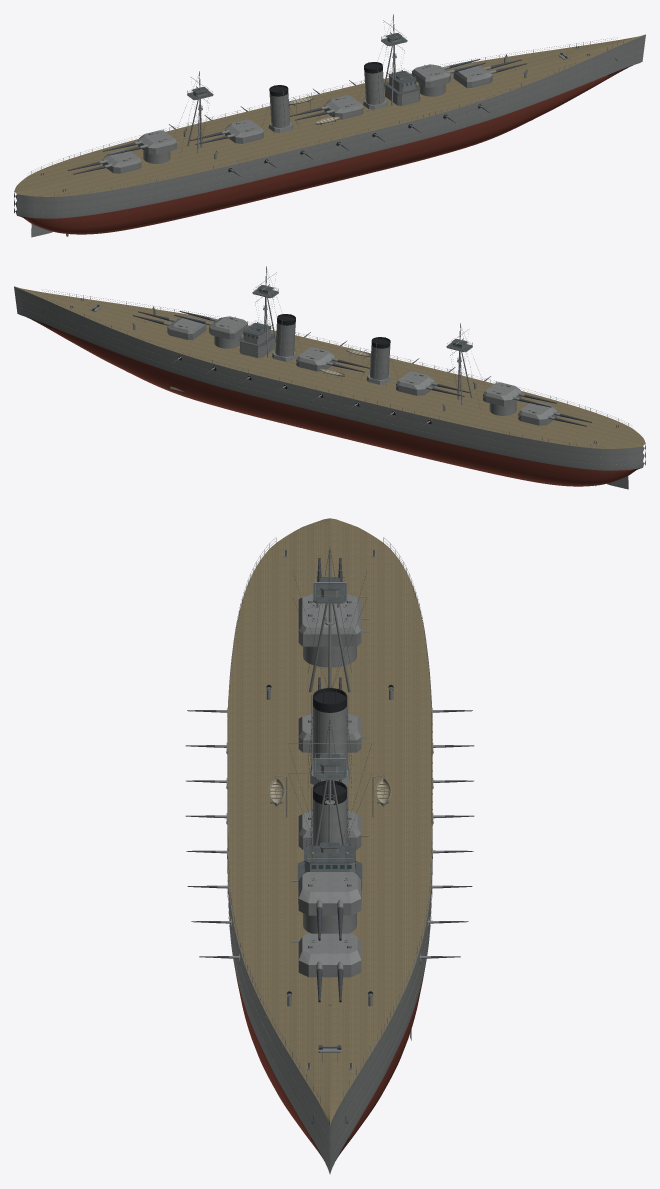
File: fuso.glb
The picture shows the model from 3 angles, top to bottom: view 1: azimuth 30°, elevation 25°; view 2: azimuth 150°, elevation 25°; view 3: azimuth 270°, elevation 25°; orthographic projection. The views are drawn at different scales.
Visible parts, largest first — view 1: Fuso class; view 2: Fuso class; view 3: Fuso class.
Boxes of the visible parts, left/top/right/bottom form: Fuso class: left=14, top=14, right=645, bottom=237; Fuso class: left=14, top=266, right=645, bottom=489; Fuso class: left=185, top=518, right=474, bottom=1174.
Bounding box in the file's own units: 206 × 42.82 × 40.93.
9 materials, 8 textured.
